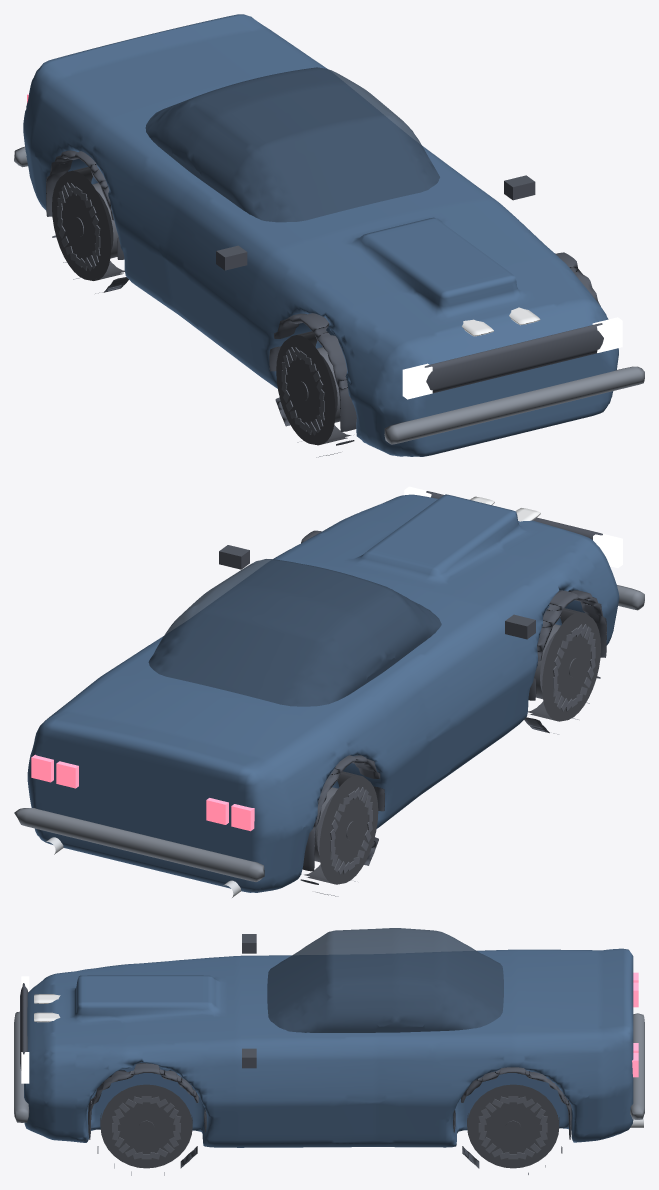
The model's file is ironhide.glb.
3 views of the same model, one above another, from view 1: azimuth 30°, elevation 25°; view 2: azimuth 150°, elevation 25°; view 3: azimuth 270°, elevation 25° (orthographic). The views are drawn at different scales.
Parts seen in each view (by area): view 1: Bodywork, CanopyGlass, CarbonAero (×2), TireRubber, ChromeTrim, ForgedRim, HeadlightLED, AccentLivery; view 2: Bodywork, CanopyGlass, TireRubber, CarbonAero (×2), ChromeTrim, ForgedRim, TaillightLED, HeadlightLED; view 3: Bodywork, CanopyGlass, TireRubber, CarbonAero (×2), ForgedRim, ChromeTrim, AccentLivery, TaillightLED, HeadlightLED.
Part boxes in pixels (box(x1,y1,x2,y2)): Bodywork: box(23, 14, 618, 456); CanopyGlass: box(145, 67, 439, 222); CarbonAero (×2): box(46, 150, 603, 457); TireRubber: box(52, 167, 351, 445); ChromeTrim: box(14, 146, 644, 444); ForgedRim: box(57, 182, 340, 435); HeadlightLED: box(402, 317, 622, 399); AccentLivery: box(462, 307, 540, 336); Bodywork: box(27, 494, 619, 892); CanopyGlass: box(148, 559, 441, 706); TireRubber: box(304, 608, 600, 884); CarbonAero (×2): box(219, 491, 606, 896); ChromeTrim: box(14, 585, 644, 881); ForgedRim: box(314, 624, 595, 874); TaillightLED: box(31, 754, 254, 831); HeadlightLED: box(404, 486, 622, 567); Bodywork: box(24, 948, 633, 1147); CanopyGlass: box(267, 928, 503, 1032); TireRubber: box(100, 1084, 559, 1168); CarbonAero (×2): box(20, 934, 571, 1175); ForgedRim: box(112, 1096, 547, 1159); ChromeTrim: box(14, 1011, 644, 1122); AccentLivery: box(34, 994, 60, 1022); TaillightLED: box(632, 972, 638, 1077); HeadlightLED: box(21, 976, 29, 1083).
Bounding box in the file's own units: 2.22 × 1.46 × 4.78.
